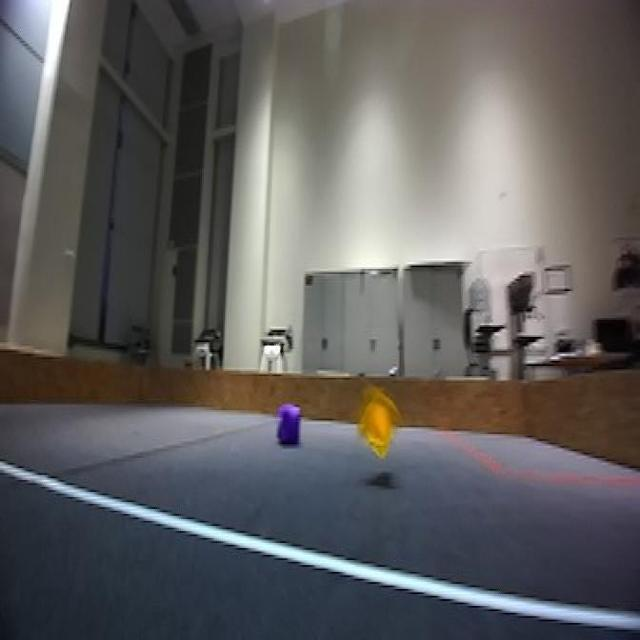frc_cone: (354, 378, 401, 466)
frc_cube: (275, 404, 303, 449)
